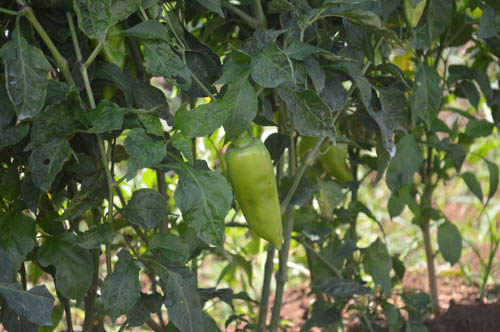ChiliPepper: (221, 139, 288, 253), (78, 16, 135, 106), (315, 118, 361, 186)
